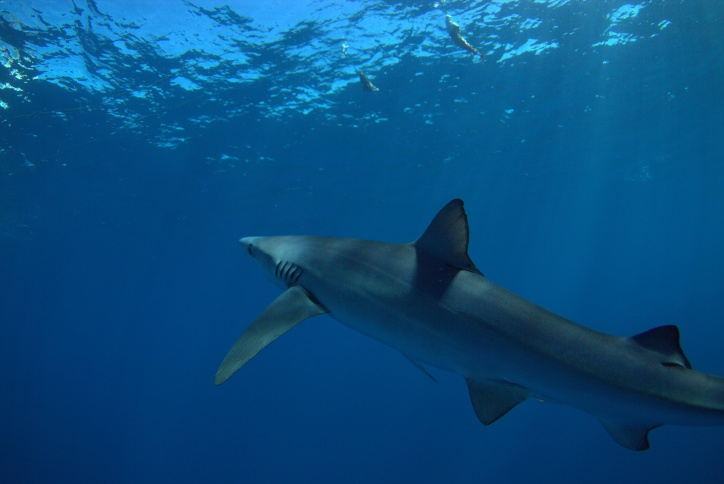Azul: (198, 183, 724, 480)
